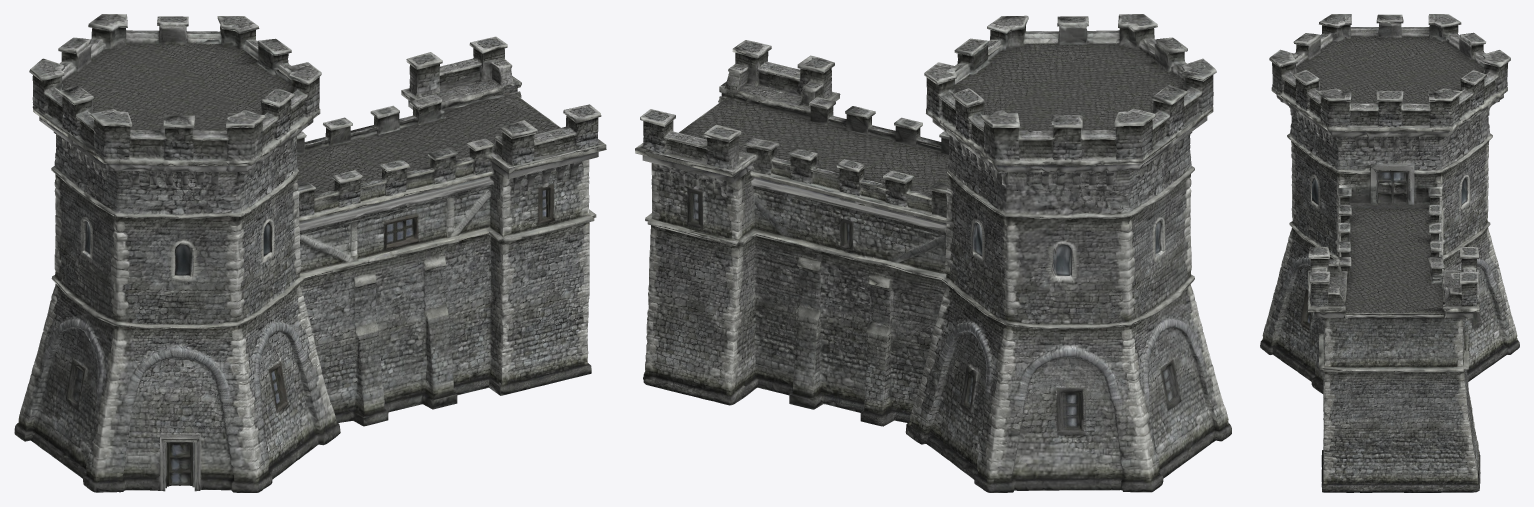
The model's file is keep_fortress.glb.
The picture shows the model from 3 angles, left to right: view 1: azimuth 30°, elevation 25°; view 2: azimuth 150°, elevation 25°; view 3: azimuth 270°, elevation 25°; orthographic projection. The views are drawn at different scales.
Parts seen in each view (by area): view 1: keep_fortress; view 2: keep_fortress; view 3: keep_fortress.
Part boxes in pixels (x1,y1,x2,y2): keep_fortress: (14, 14, 606, 492); keep_fortress: (635, 14, 1231, 492); keep_fortress: (1260, 14, 1519, 492).
Size of the model in its own units: 1.9 by 1.32 by 1.07.
1 material, 1 textured.
